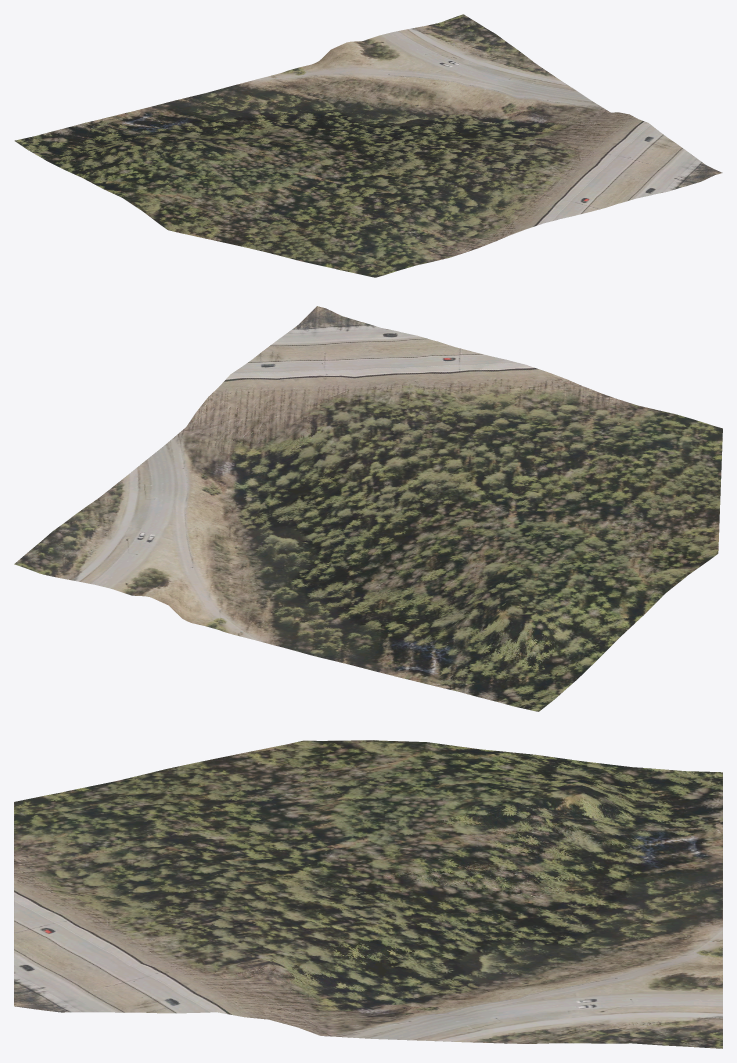
File: CM_Terrain_24490049_6817541.fbx
3 views of the same model, one above another, from view 1: azimuth 30°, elevation 25°; view 2: azimuth 150°, elevation 25°; view 3: azimuth 270°, elevation 25° (orthographic). The views are drawn at different scales.
Parts seen in each view (by area): view 1: CM_Terrain_24490049_6817541_LOD0; view 2: CM_Terrain_24490049_6817541_LOD0; view 3: CM_Terrain_24490049_6817541_LOD0.
Part boxes in pixels (<box>): CM_Terrain_24490049_6817541_LOD0: <box>14,14,722,277</box>; CM_Terrain_24490049_6817541_LOD0: <box>14,306,722,711</box>; CM_Terrain_24490049_6817541_LOD0: <box>14,740,722,1048</box>.
Size of what is drawn, in the model's own units: 205 by 21.12 by 205.
